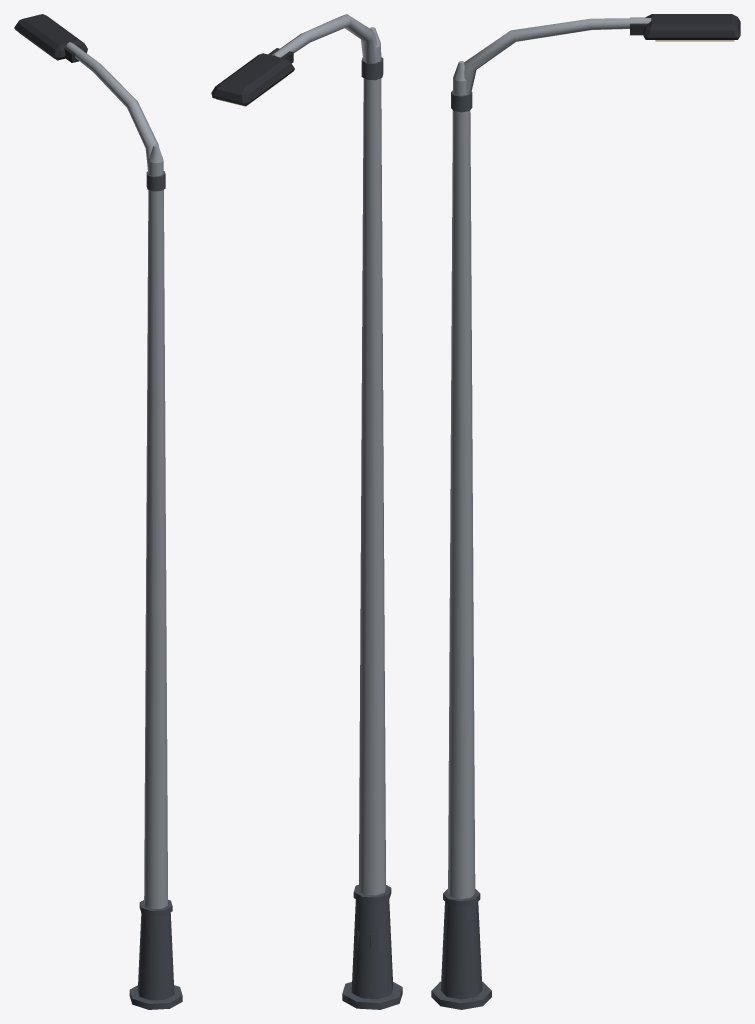
File: street_lamp.glb
The picture shows the model from 3 angles, left to right: view 1: azimuth 30°, elevation 25°; view 2: azimuth 150°, elevation 25°; view 3: azimuth 270°, elevation 25°; orthographic projection. The views are drawn at different scales.
Visible parts, largest first — view 1: street_lamp__mesh; view 2: street_lamp__mesh; view 3: street_lamp__mesh.
Part boxes in pixels (x1,y1,x2,y2): street_lamp__mesh: (14,14,182,1009); street_lamp__mesh: (211,14,402,1009); street_lamp__mesh: (431,14,740,1009).
Bounding box in the file's own units: 0.42 × 7.51 × 2.15.
Materials: 1 (1 with a texture image).
